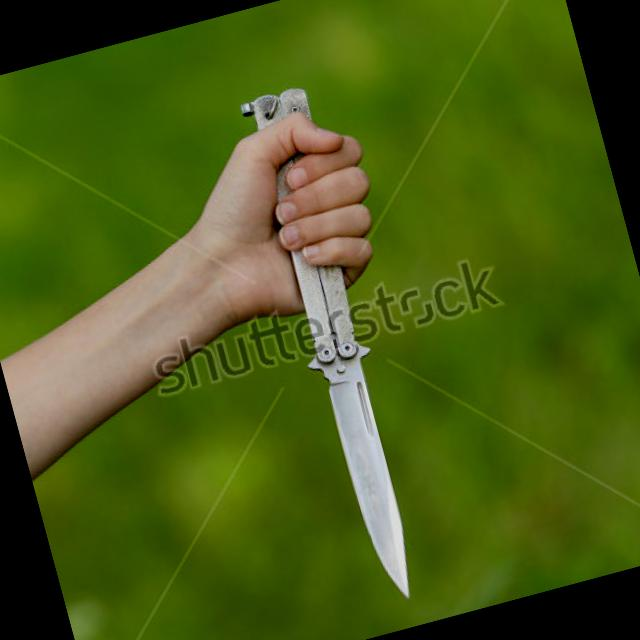knife: (220, 116, 482, 622)
